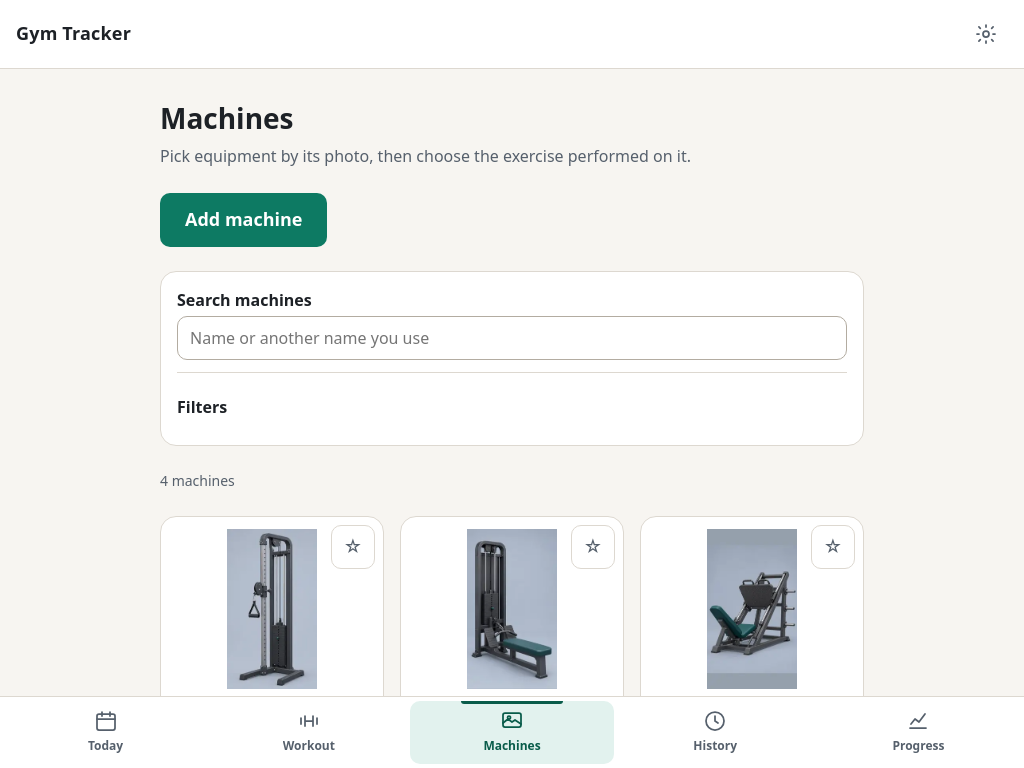
Test: the plate-loaded leg press › says the load basis is unset instead of guessing per-side
Click the link with aria-label "Open Plate-loaded seated leg press".
click(752, 633)  # box x1=653 y1=529 x2=851 y2=737
(page scrolled)
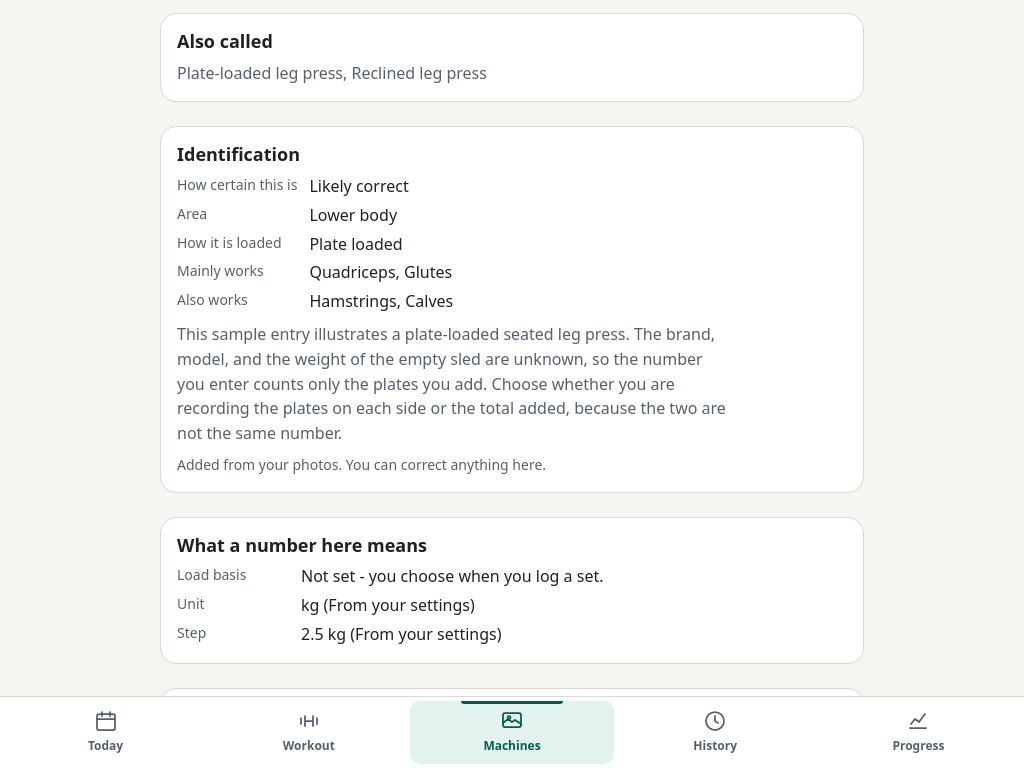
Check: the text "Not set - you choose when you log a set." is shown, box x1=301 y1=565 x2=604 y2=587
Check: the text "plates on each side or the total added" is shown, box x1=177 y1=323 x2=726 y2=444
